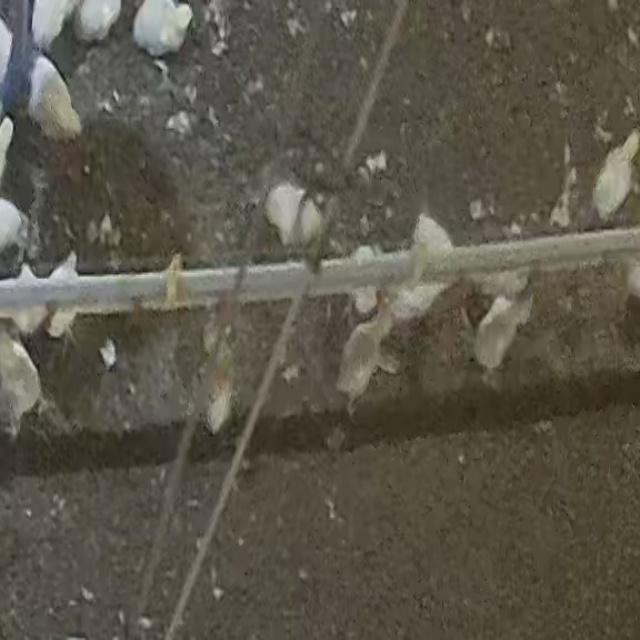chicken: (337, 310, 397, 411), (28, 55, 86, 147), (406, 214, 459, 312), (472, 291, 533, 373), (589, 124, 640, 218), (256, 183, 332, 242), (133, 0, 192, 57), (347, 248, 386, 317), (47, 252, 80, 332), (12, 262, 48, 335)
